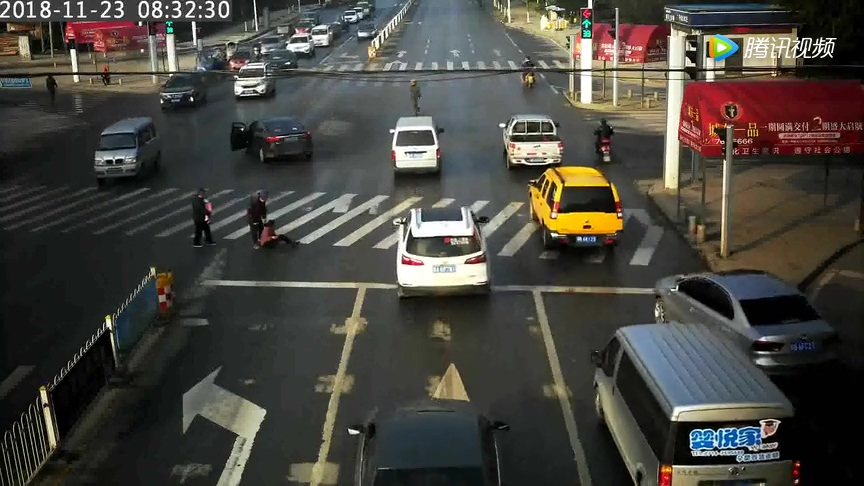car: (576, 314, 805, 486), (384, 200, 500, 299), (522, 166, 626, 260), (87, 104, 174, 194), (222, 104, 327, 176), (378, 117, 453, 186), (494, 106, 567, 171), (229, 58, 282, 107), (156, 67, 213, 112), (356, 20, 382, 41)
person: (182, 183, 222, 253), (238, 181, 272, 259), (584, 111, 617, 163), (259, 218, 305, 251), (404, 69, 429, 119), (506, 51, 537, 91), (38, 73, 66, 114), (91, 63, 117, 81)
